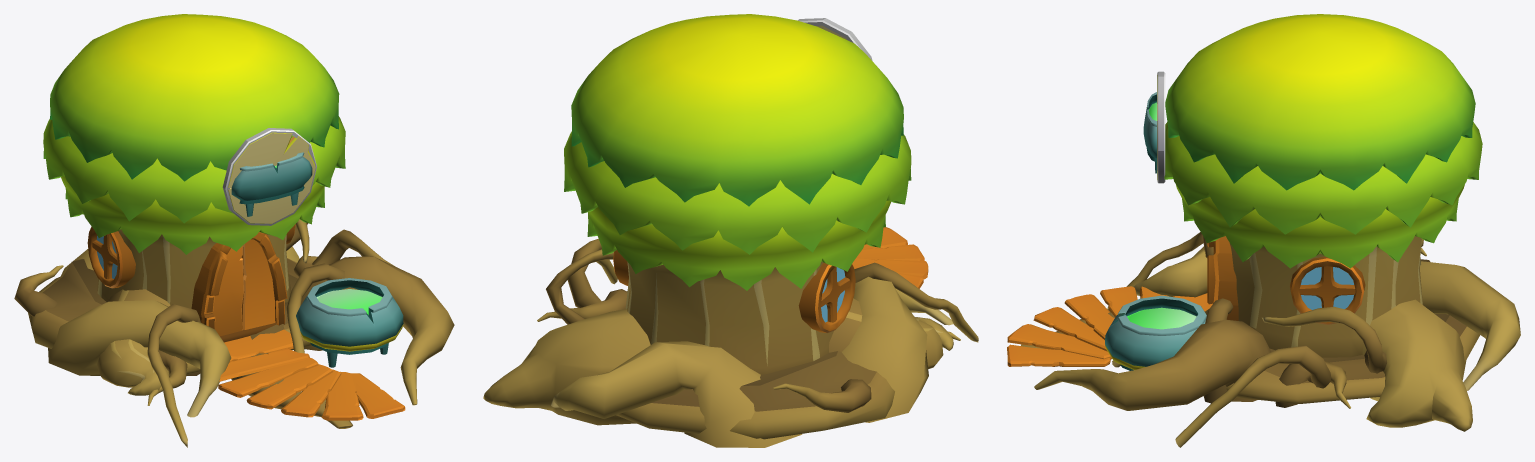
The model's file is Magic_House_lvl_1.fbx.
3 renders of one model, left to right at view 1: azimuth 30°, elevation 25°; view 2: azimuth 150°, elevation 25°; view 3: azimuth 270°, elevation 25°, orthographic. The views are drawn at different scales.
Parts seen in each view (by area): view 1: Magic_House, Magic_House_Sign, Cauldron; view 2: Magic_House, Magic_House_Sign; view 3: Magic_House, Cauldron, Magic_House_Sign.
Part boxes in pixels (<box>): Magic_House: <box>14,14,454,447</box>; Magic_House_Sign: <box>222,128,316,225</box>; Cauldron: <box>296,278,403,367</box>; Magic_House: <box>483,14,978,447</box>; Magic_House_Sign: <box>797,18,872,60</box>; Magic_House: <box>1007,14,1520,447</box>; Cauldron: <box>1105,295,1206,370</box>; Magic_House_Sign: <box>1143,71,1165,183</box>.
Size of the model in its own units: 40.93 by 37.67 by 52.72.
